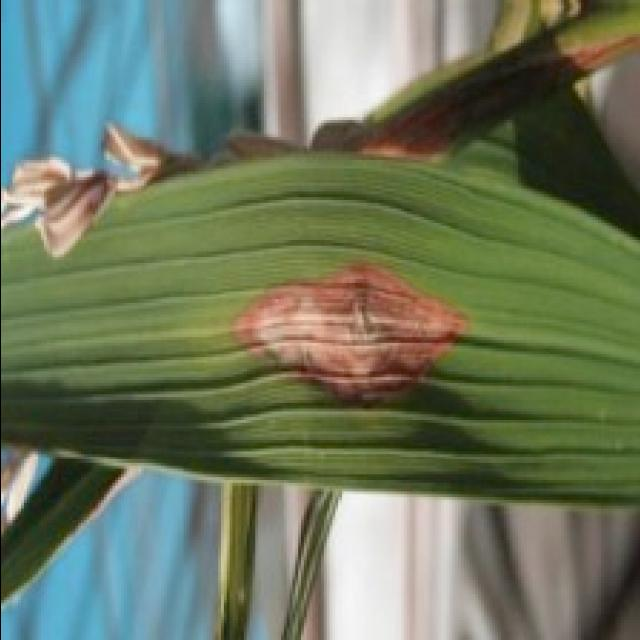Unhealthy: (228, 261, 471, 408), (215, 480, 231, 640)
